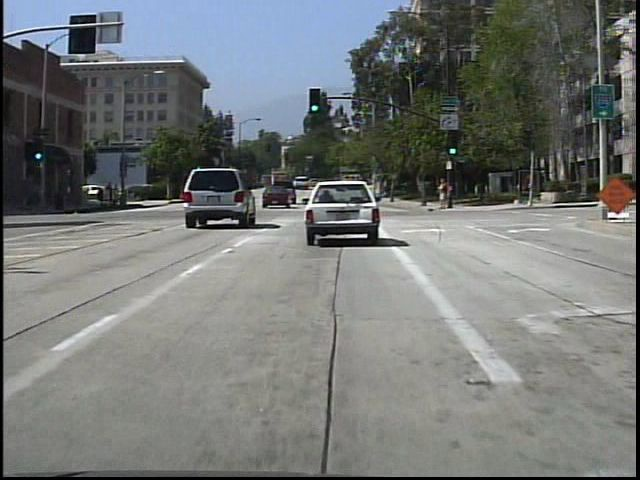person: (433, 173, 450, 211), (106, 180, 117, 210), (118, 182, 119, 209)
